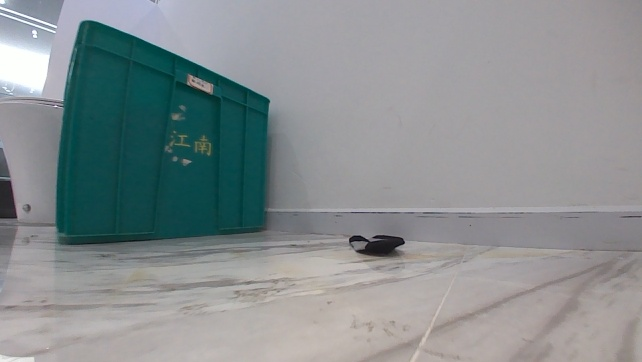socks: (347, 228, 405, 258)
toilet: (0, 92, 65, 225)
